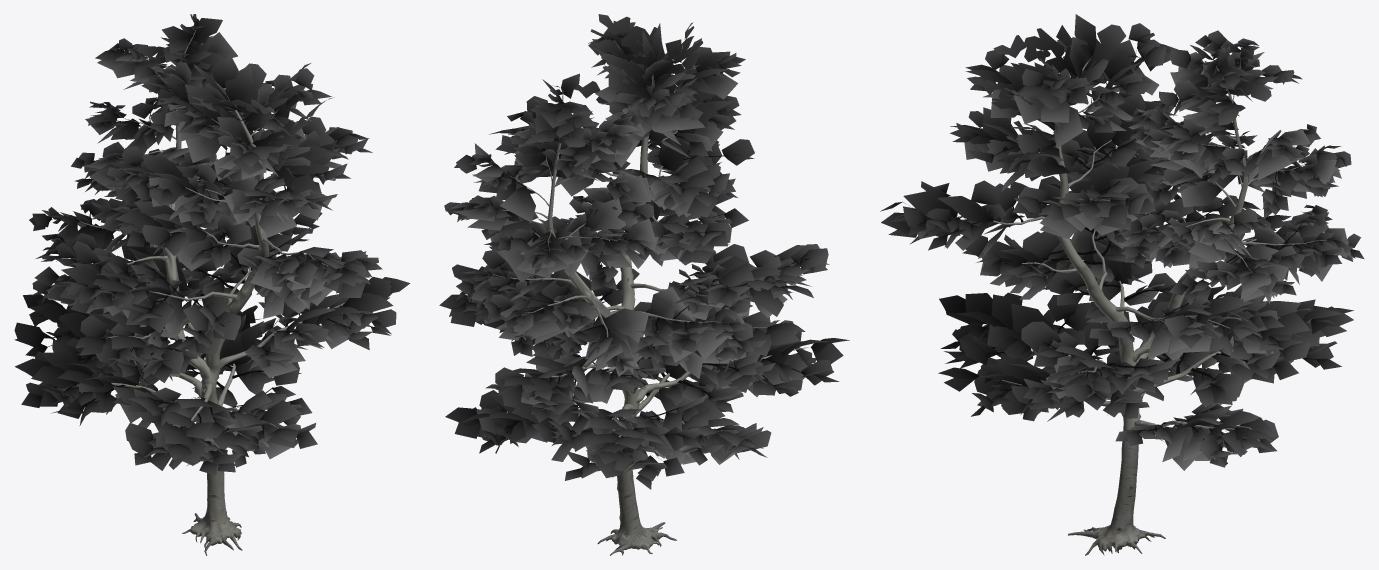
File: beech_tree_05_s.FBX
The picture shows the model from 3 angles, left to right: view 1: azimuth 30°, elevation 25°; view 2: azimuth 150°, elevation 25°; view 3: azimuth 270°, elevation 25°; orthographic projection. The views are drawn at different scales.
Visible parts, largest first — view 1: beech_tree_05_leaves_LOD0, beech_tree_05_LOD0; view 2: beech_tree_05_leaves_LOD0, beech_tree_05_LOD0; view 3: beech_tree_05_leaves_LOD0, beech_tree_05_LOD0.
Part boxes in pixels (bbox=[...]): beech_tree_05_leaves_LOD0: bbox=[14, 14, 410, 475]; beech_tree_05_LOD0: bbox=[68, 26, 345, 555]; beech_tree_05_leaves_LOD0: bbox=[439, 14, 849, 489]; beech_tree_05_LOD0: bbox=[478, 42, 808, 555]; beech_tree_05_leaves_LOD0: bbox=[880, 14, 1364, 470]; beech_tree_05_LOD0: bbox=[956, 54, 1326, 555].
Size of what is drawn, in the model's own units: 15446 by 21644 by 17845.
